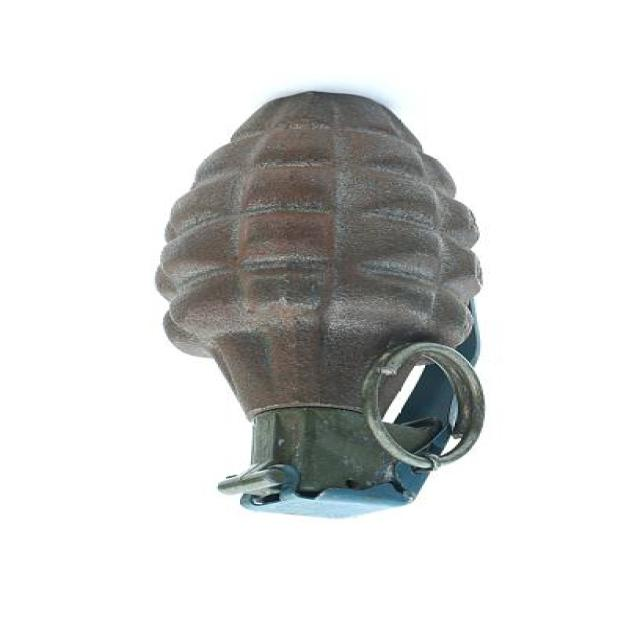grenade: (141, 87, 497, 527)
